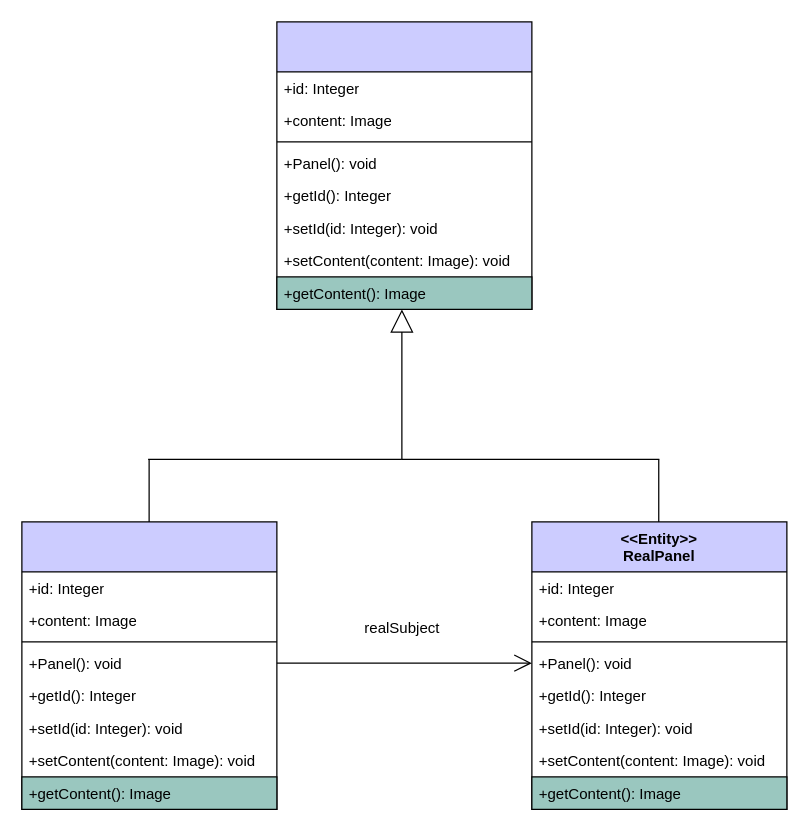
The diagram is 809 pixels wide and 835 high, and some of its shapes have lost their labels. Here are the shapes that lost their labels. From the top down, the box of each, then its label:
(276, 21, 532, 309): <<Entity>> Panel
(21, 521, 277, 809): <<Entity>> ProxyPanel
